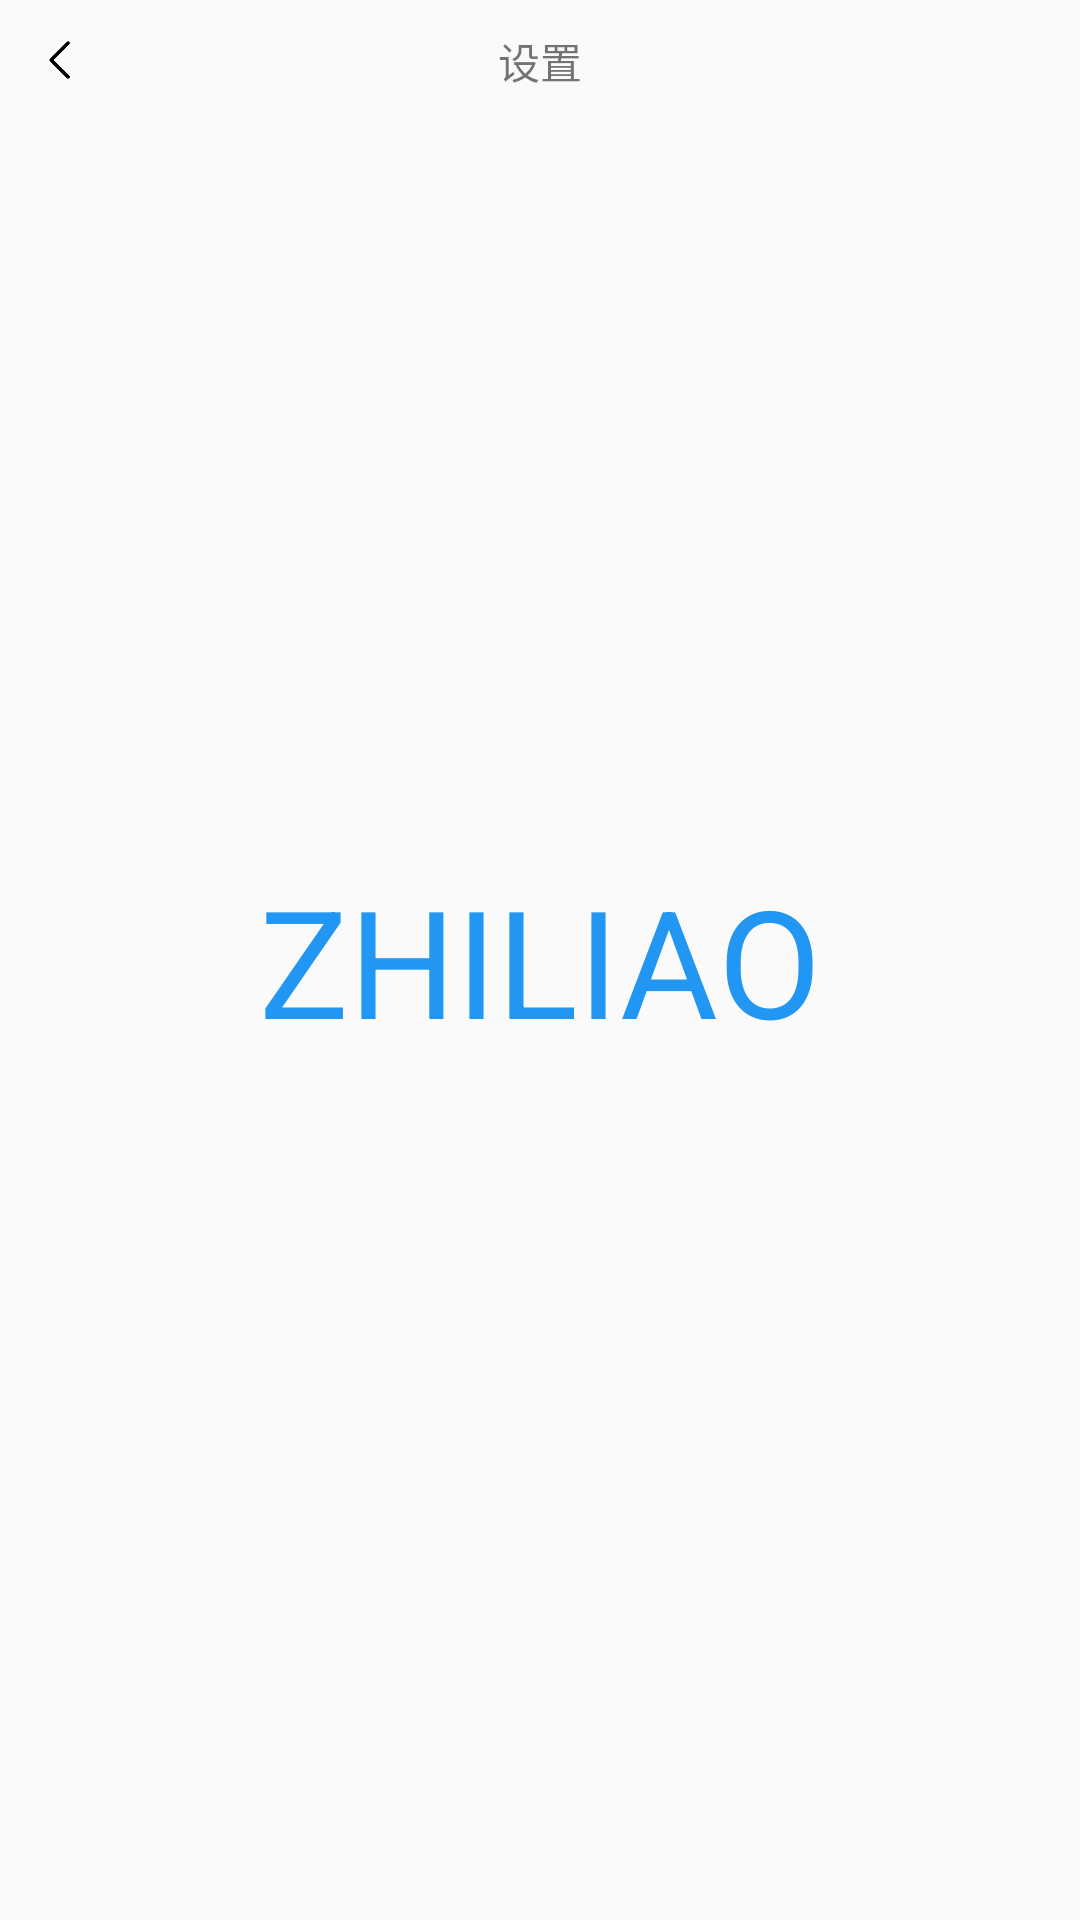

Icons on this 1080px x 1920px Android screen, each with the point to tap as point (x, y):
leftjiantou: point (59, 60)
